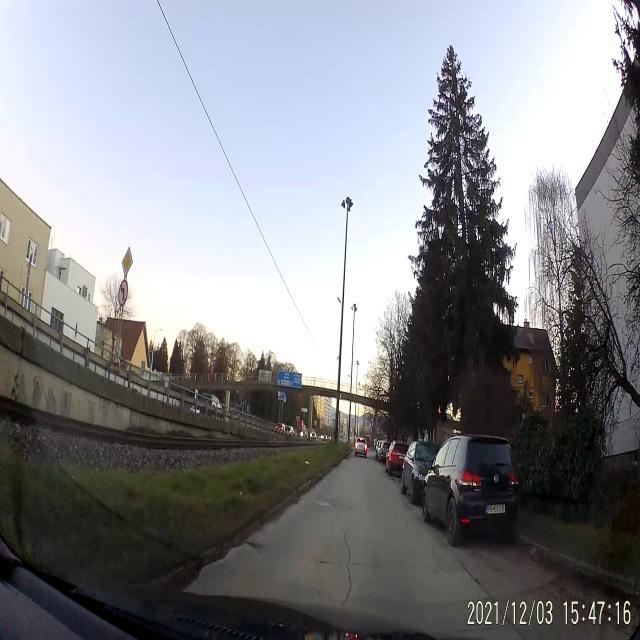Pothole: (240, 533, 268, 560), (312, 494, 333, 510)
